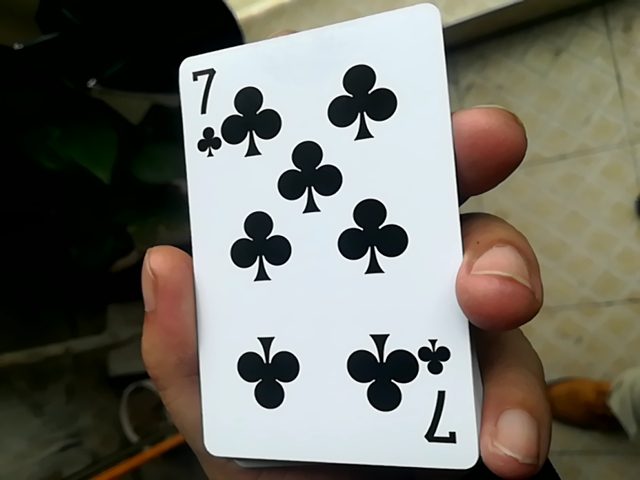mh 7: (166, 7, 470, 480)
